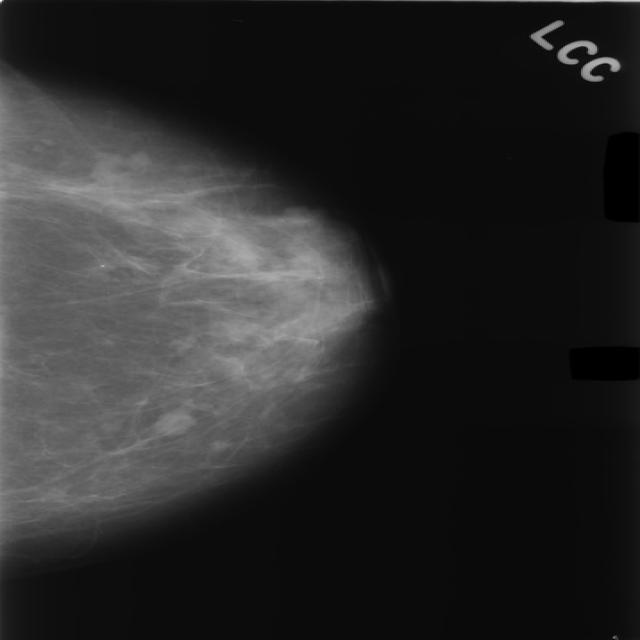tumour: (154, 408, 195, 434)
